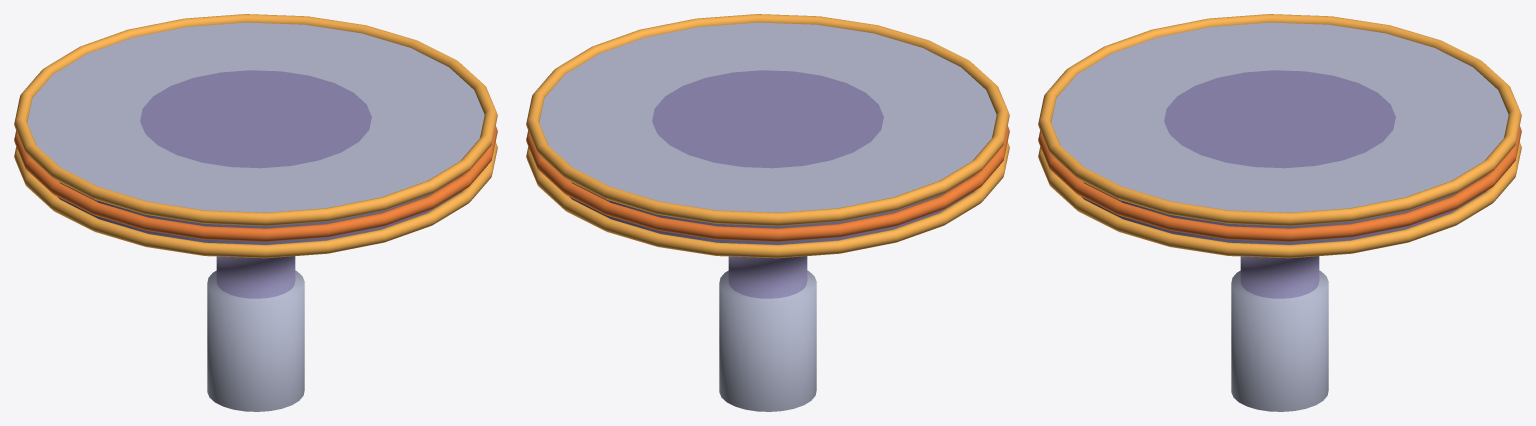
Rendered from table.fbx.
3 views of the same model, side by side, from view 1: azimuth 30°, elevation 25°; view 2: azimuth 150°, elevation 25°; view 3: azimuth 270°, elevation 25° (orthographic).
Visible parts, largest first — view 1: table; view 2: table; view 3: table.
Part boxes in pixels (bbox=[...]): table: bbox=[14, 14, 497, 411]; table: bbox=[526, 14, 1009, 411]; table: bbox=[1038, 14, 1521, 411].
Bounding box in the file's own units: 473 × 299 × 473.
